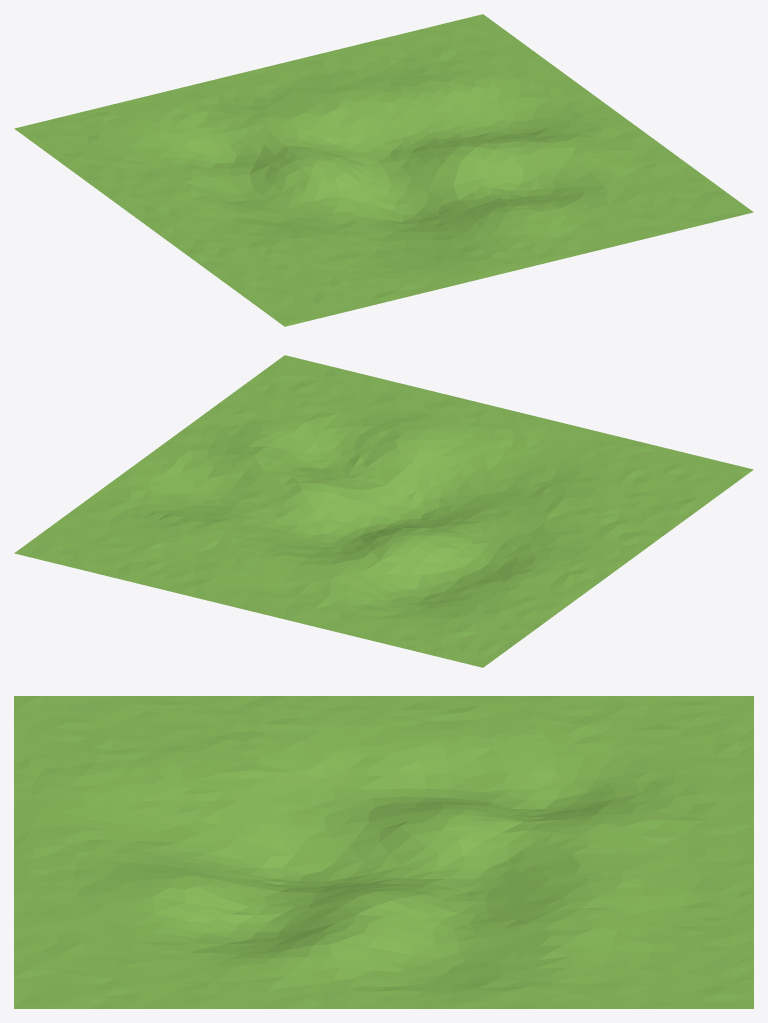
Rendered from MT_Terrain_L_b_11_LOD.fbx.
3 views of the same model, one above another, from view 1: azimuth 30°, elevation 25°; view 2: azimuth 150°, elevation 25°; view 3: azimuth 270°, elevation 25° (orthographic). The views are drawn at different scales.
Parts seen in each view (by area): view 1: MT_Terrain_L_b_11_LOD0; view 2: MT_Terrain_L_b_11_LOD0; view 3: MT_Terrain_L_b_11_LOD0.
Part boxes in pixels (x1,y1,x2,y2): MT_Terrain_L_b_11_LOD0: (14, 14, 753, 326); MT_Terrain_L_b_11_LOD0: (14, 355, 753, 667); MT_Terrain_L_b_11_LOD0: (14, 696, 753, 1008).
Size of what is drawn, in the model's own units: 10000 by 550 by 10000.
